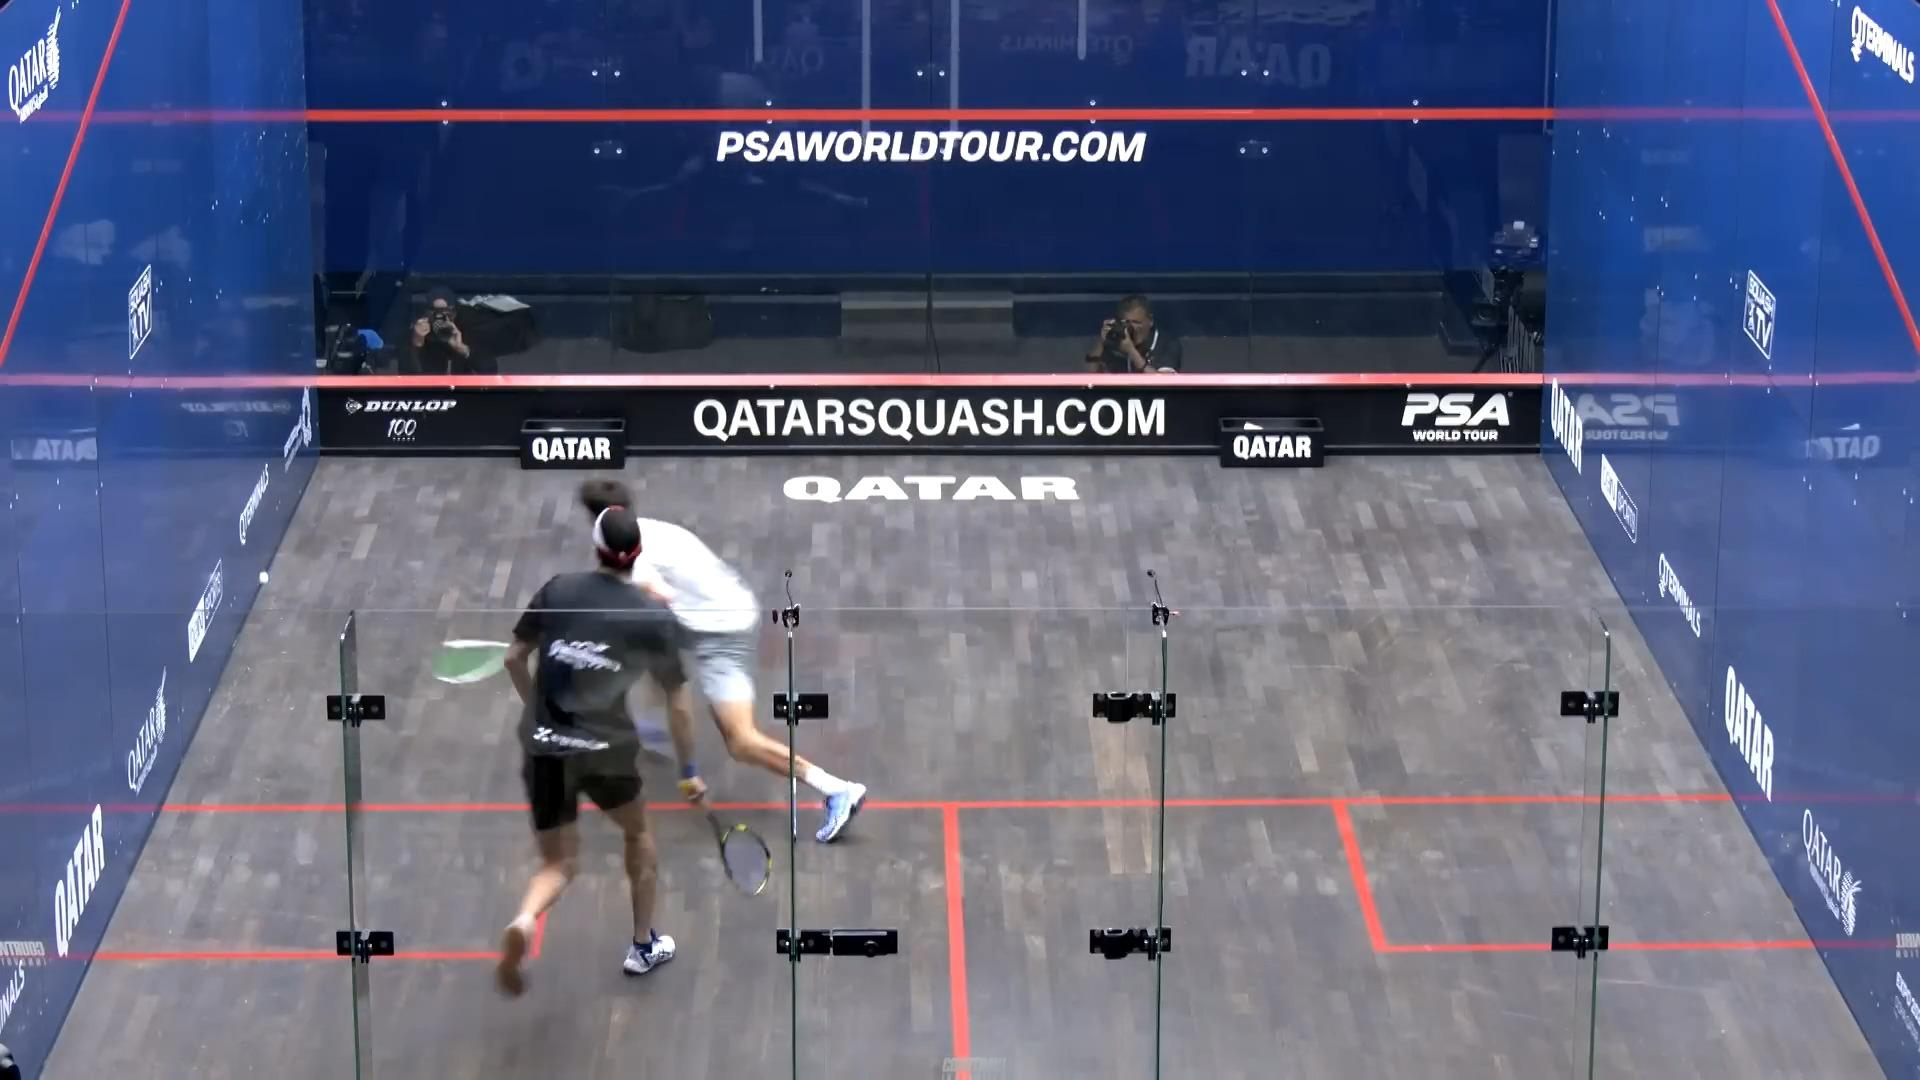Racket: (702, 798, 777, 902)
